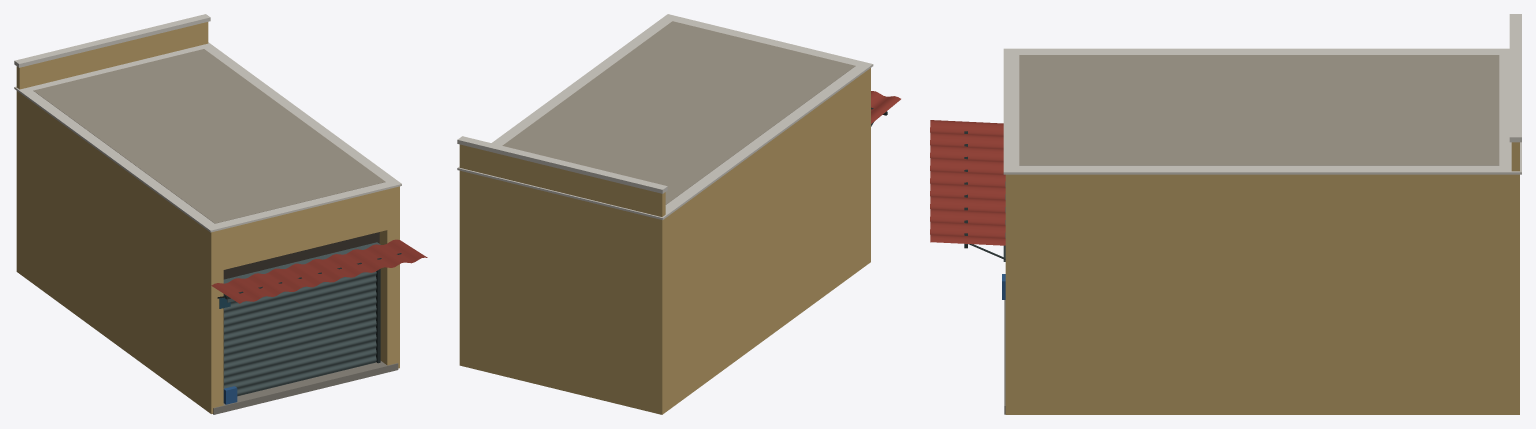
File: nha_ong_ben.glb
The picture shows the model from 3 angles, left to right: view 1: azimuth 30°, elevation 25°; view 2: azimuth 150°, elevation 25°; view 3: azimuth 270°, elevation 25°; orthographic projection. The views are drawn at different scales.
Visible parts, largest first — view 1: nha_ong_ben; view 2: nha_ong_ben; view 3: nha_ong_ben.
Part boxes in pixels (x1,y1,x2,y2): nha_ong_ben: (14, 14, 427, 414); nha_ong_ben: (457, 14, 900, 414); nha_ong_ben: (930, 14, 1521, 414).
Size of the model in its own units: 4.26 by 4.52 by 8.63.
